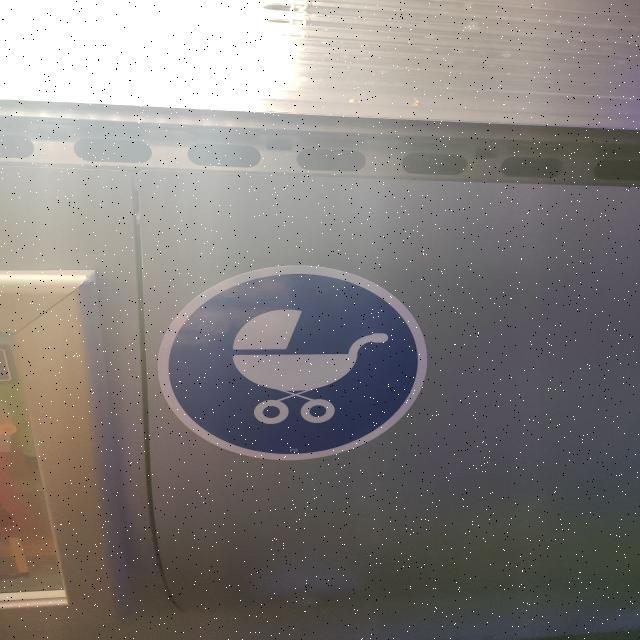Circle: (157, 262, 431, 461), (252, 396, 291, 428), (298, 396, 336, 427)
